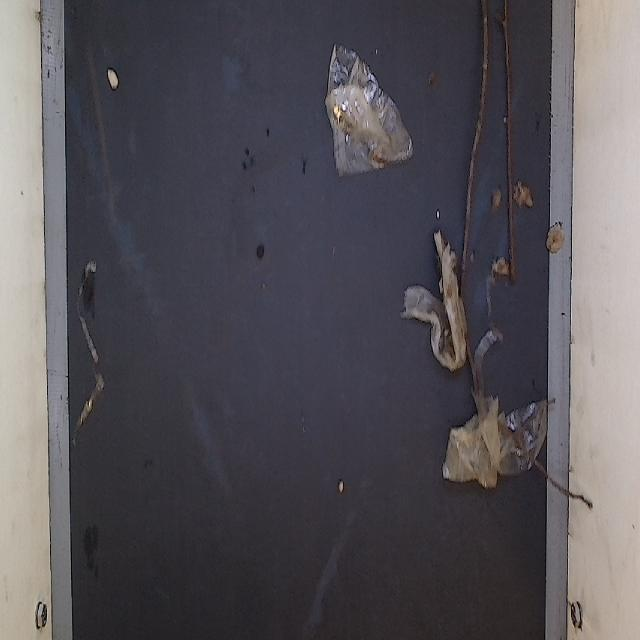food_wrapping: (401, 215, 471, 375)
plastic_films: (439, 380, 547, 500), (326, 46, 414, 184)
